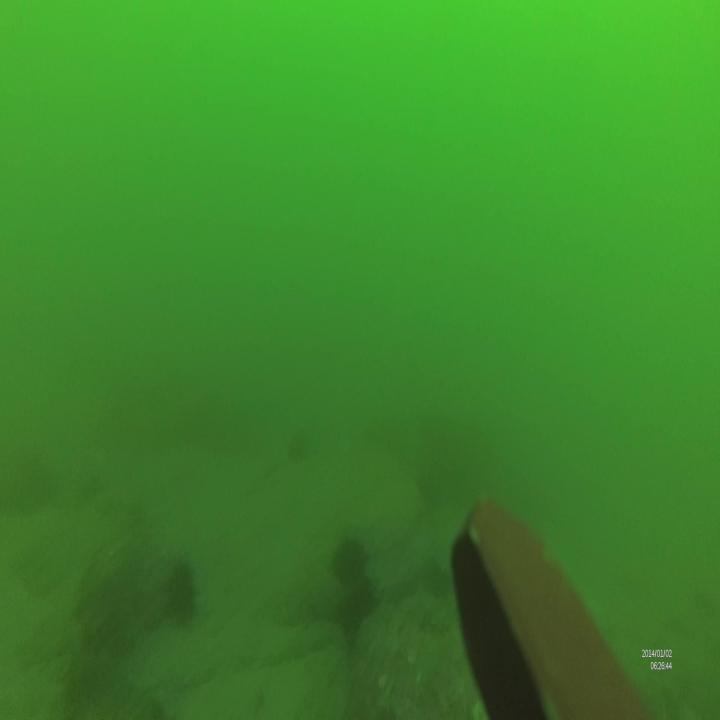echinus: (166, 560, 196, 628), (338, 574, 378, 622), (332, 535, 368, 584)
